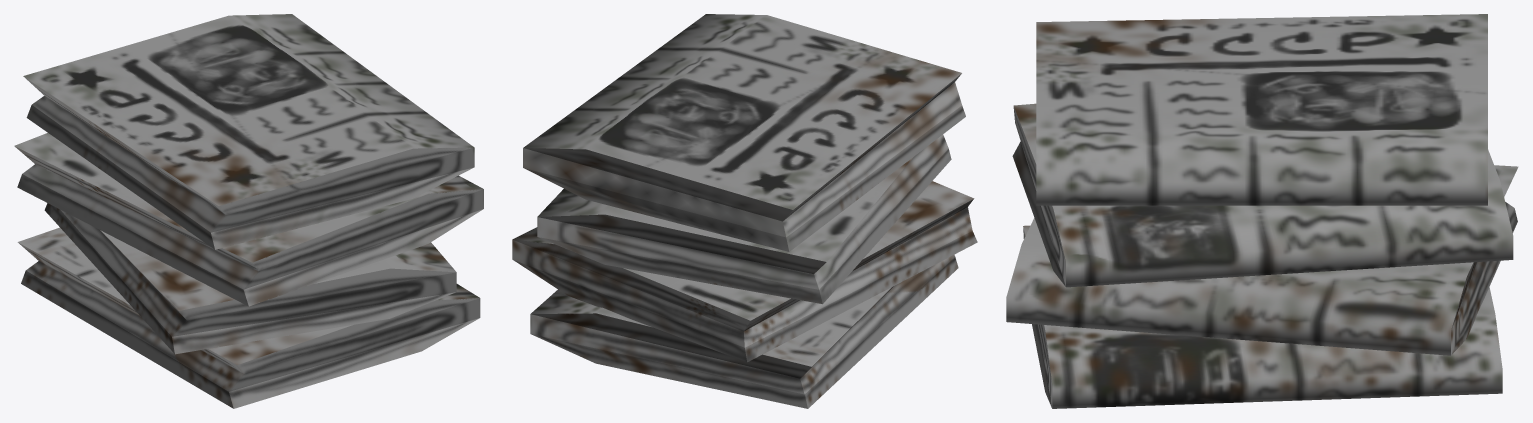
The model's file is newspaper.glb.
3 renders of one model, left to right at view 1: azimuth 30°, elevation 25°; view 2: azimuth 150°, elevation 25°; view 3: azimuth 270°, elevation 25°, orthographic. The views are drawn at different scales.
Parts seen in each view (by area): view 1: newspaper.001; view 2: newspaper.001; view 3: newspaper.001.
Boxes of the visible parts, bbox=[...] form: newspaper.001: bbox=[14, 14, 483, 408]; newspaper.001: bbox=[512, 14, 977, 408]; newspaper.001: bbox=[1006, 14, 1518, 408].
Bounding box in the file's own units: 0.9067 × 0.5783 × 1.03.
Materials: 1 (1 with a texture image).
